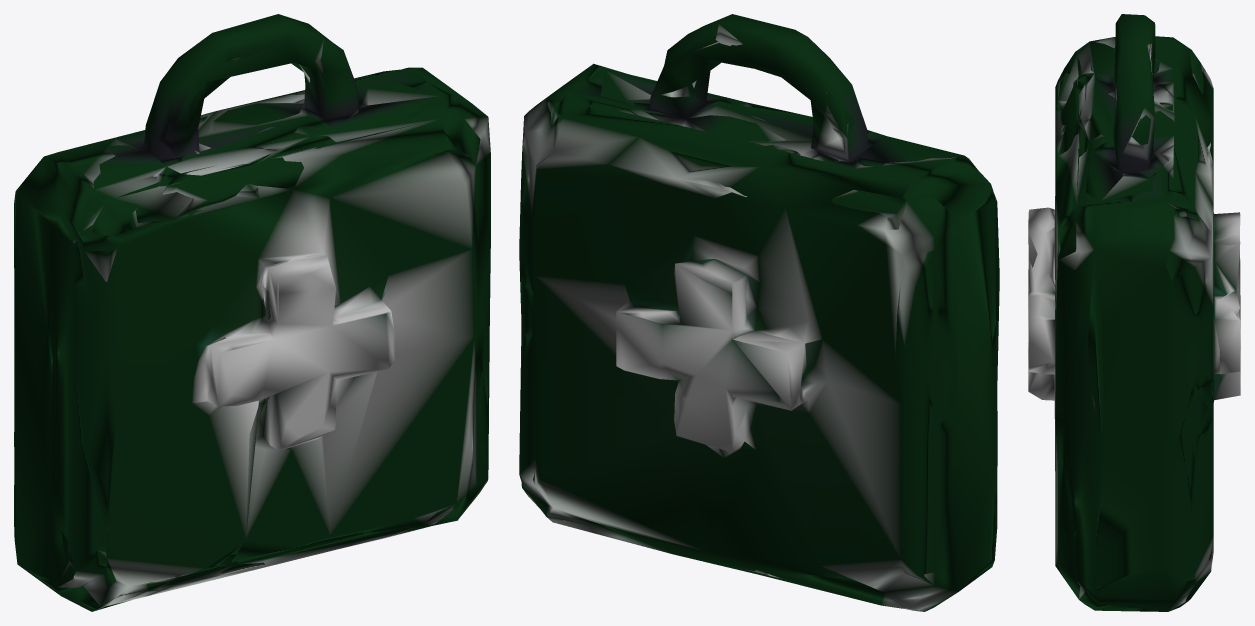
The model's file is gen3d-first-aid-kit-lod0.glb.
3 renders of one model, left to right at view 1: azimuth 30°, elevation 25°; view 2: azimuth 150°, elevation 25°; view 3: azimuth 270°, elevation 25°, orthographic. The views are drawn at different scales.
Visible parts, largest first — view 1: part_0; view 2: part_0; view 3: part_0.
Boxes of the visible parts, bbox=[...] form: part_0: bbox=[14, 14, 490, 611]; part_0: bbox=[519, 14, 999, 611]; part_0: bbox=[1028, 14, 1240, 611].
Bounding box in the file's own units: 0.8605 × 0.9984 × 0.3853.
